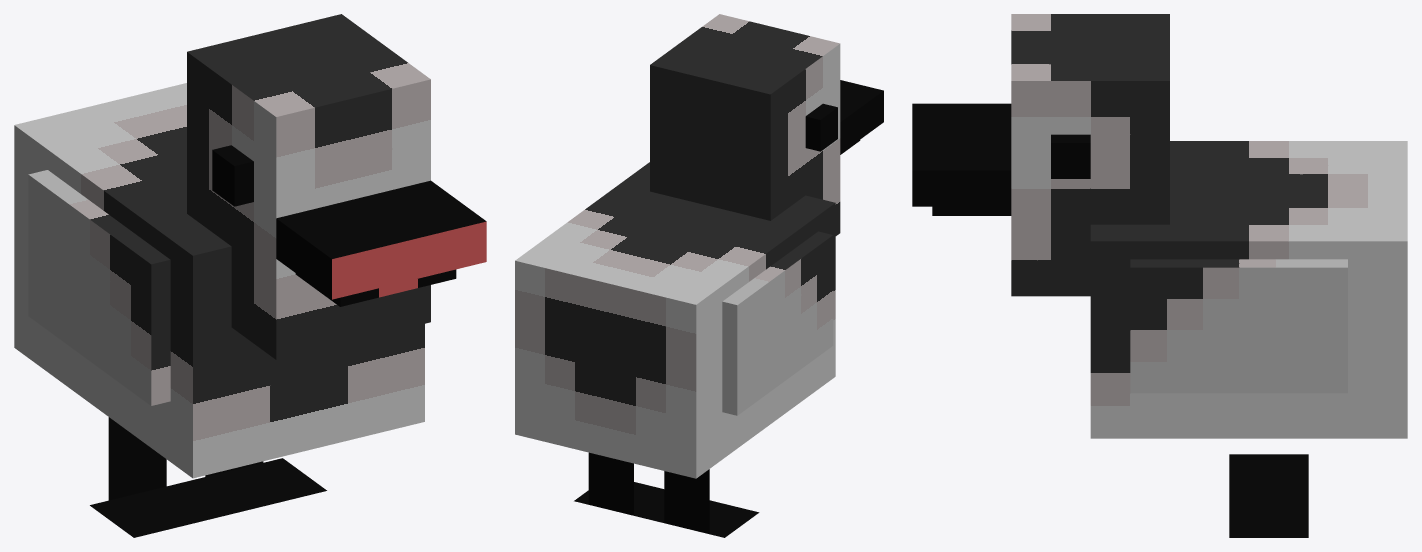
Rendered from Barnacle Duck.obj.
3 views of the same model, side by side, from view 1: azimuth 30°, elevation 25°; view 2: azimuth 150°, elevation 25°; view 3: azimuth 270°, elevation 25° (orthographic). The views are drawn at different scales.
Parts seen in each view (by area): view 1: Body, Head, RWing, Beak, RFoot, LFoot, RLeg, REye; view 2: Body, Head, RWing, RLeg, LLeg, Beak, REye, RFoot, LFoot; view 3: Body, Head, LWing, Beak, LFoot, RFoot, LEye.
Boxes of the visible parts, x1=… form: Body: x1=14, y1=83, x2=424, y2=478; Head: x1=187, y1=14, x2=430, y2=359; RWing: x1=28, y1=170, x2=170, y2=405; Beak: x1=276, y1=180, x2=486, y2=306; RFoot: x1=90, y1=482, x2=230, y2=537; LFoot: x1=186, y1=458, x2=326, y2=514; RLeg: x1=108, y1=417, x2=166, y2=500; REye: x1=212, y1=145, x2=253, y2=206; Body: x1=515, y1=162, x2=835, y2=478; Head: x1=650, y1=14, x2=840, y2=235; RWing: x1=722, y1=231, x2=833, y2=415; RLeg: x1=664, y1=469, x2=709, y2=534; LLeg: x1=588, y1=452, x2=633, y2=515; Beak: x1=840, y1=80, x2=883, y2=154; REye: x1=805, y1=103, x2=837, y2=151; RFoot: x1=649, y1=500, x2=759, y2=537; LFoot: x1=574, y1=482, x2=664, y2=519; Body: x1=1090, y1=141, x2=1407, y2=438; Head: x1=1011, y1=14, x2=1169, y2=296; LWing: x1=1130, y1=259, x2=1347, y2=393; Beak: x1=912, y1=103, x2=1011, y2=215; LFoot: x1=1229, y1=496, x2=1308, y2=537; RFoot: x1=1229, y1=454, x2=1308, y2=495; LEye: x1=1051, y1=134, x2=1090, y2=178.
Size of the model in its own units: 0.2188 by 0.3906 by 0.3906.
Materials: 1 (1 with a texture image).
